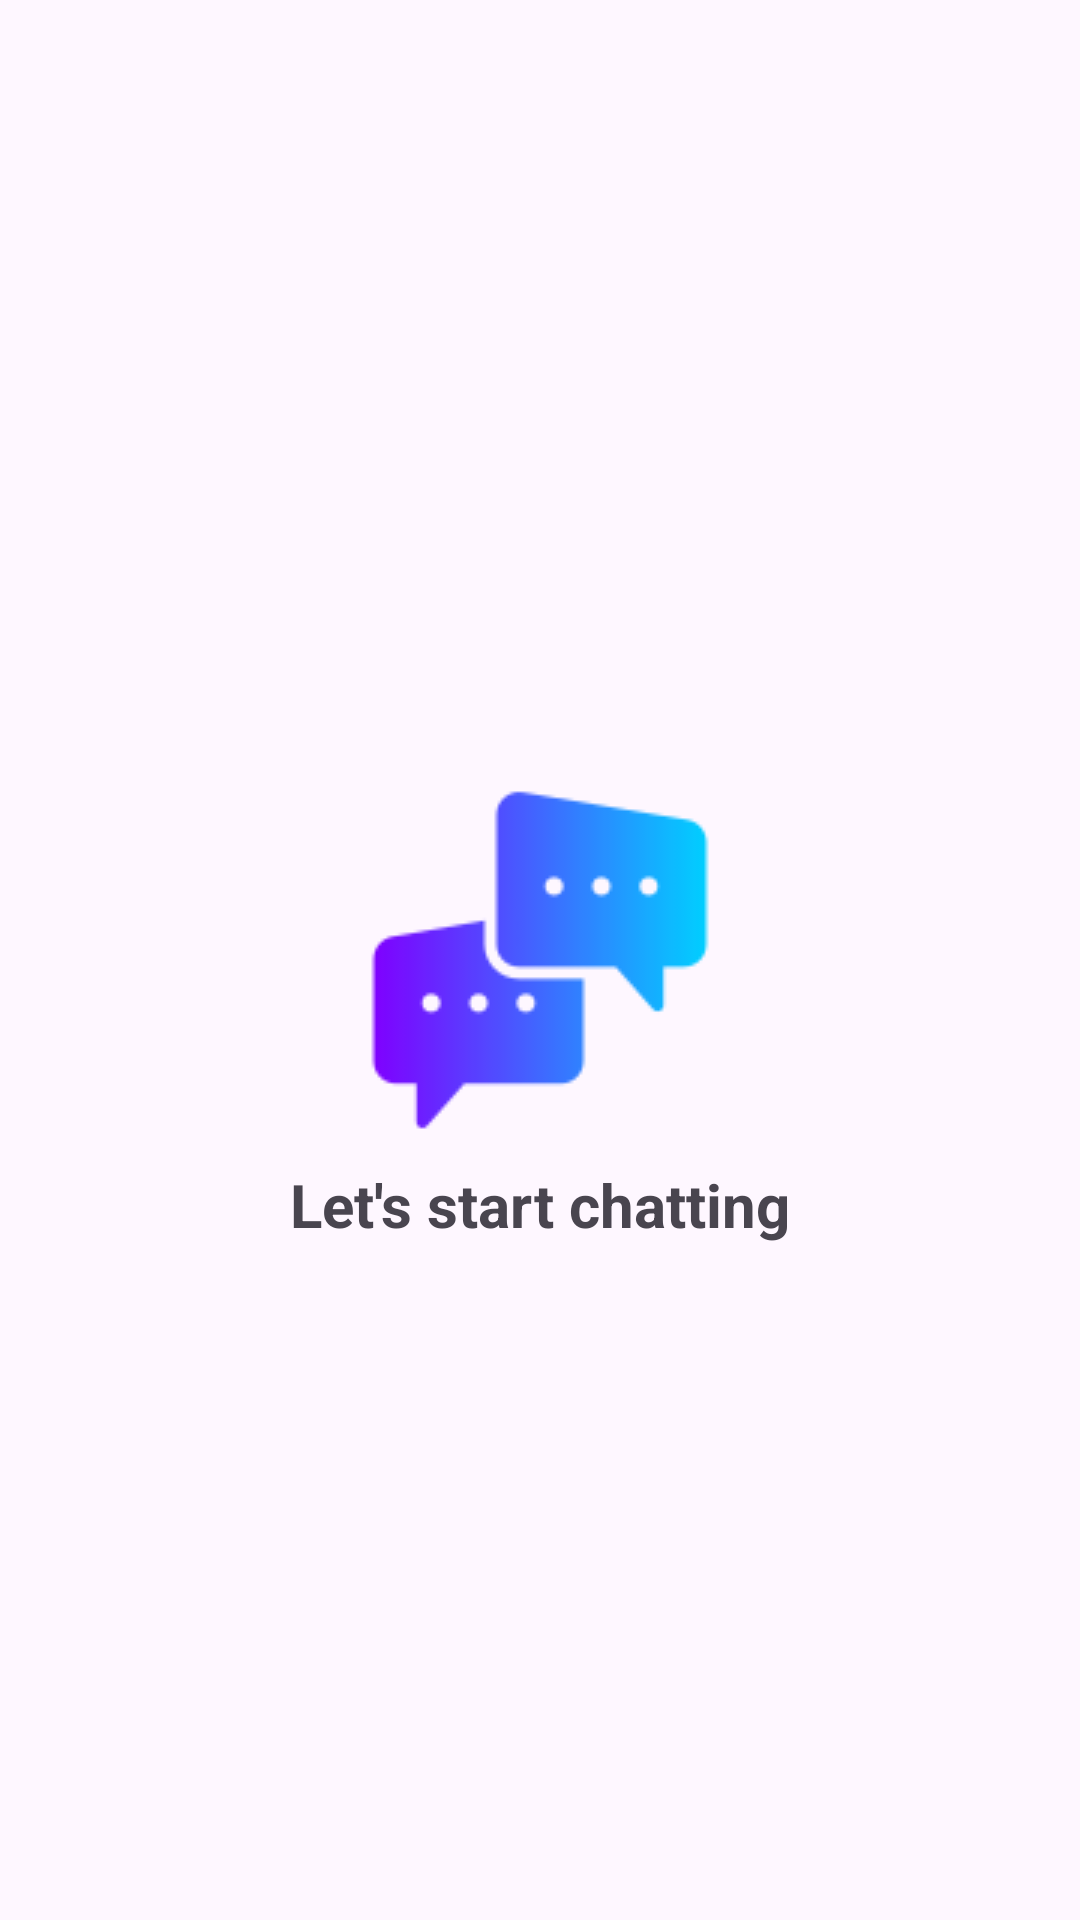

Named icons in this screenshot (1080×1920) and their bounding boxes, box=[x1, y1, x2, y2]:
communication: box=[371, 791, 709, 1129]
